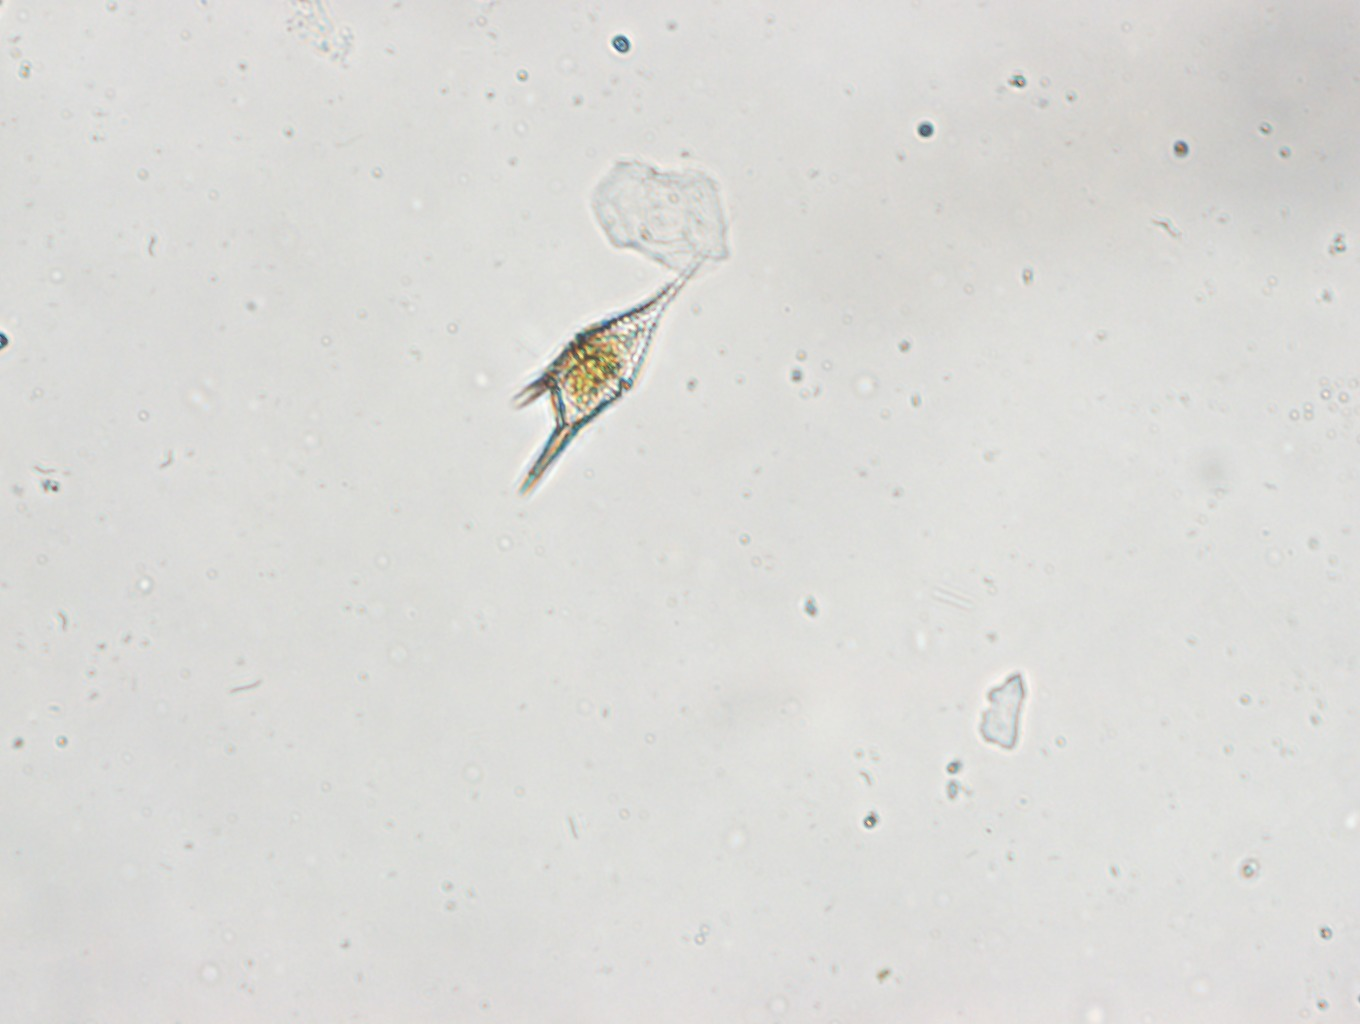ceratium furca: (509, 247, 702, 502)
